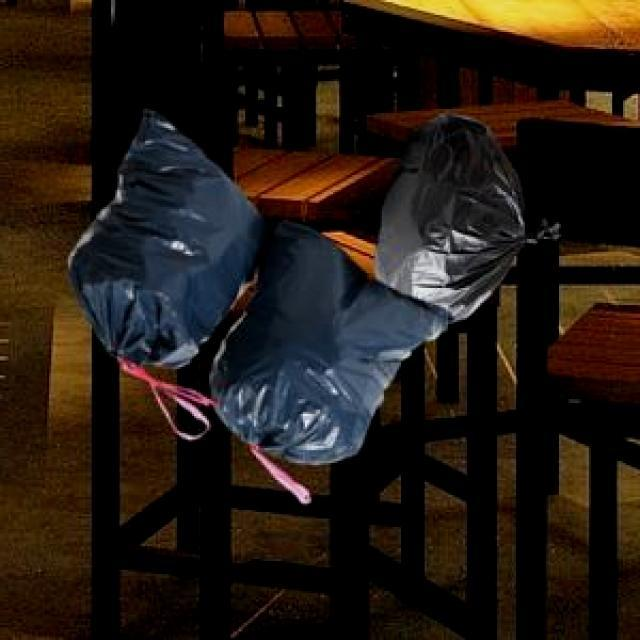Trashbag: (55, 104, 256, 364), (211, 230, 428, 466), (380, 105, 564, 298)
